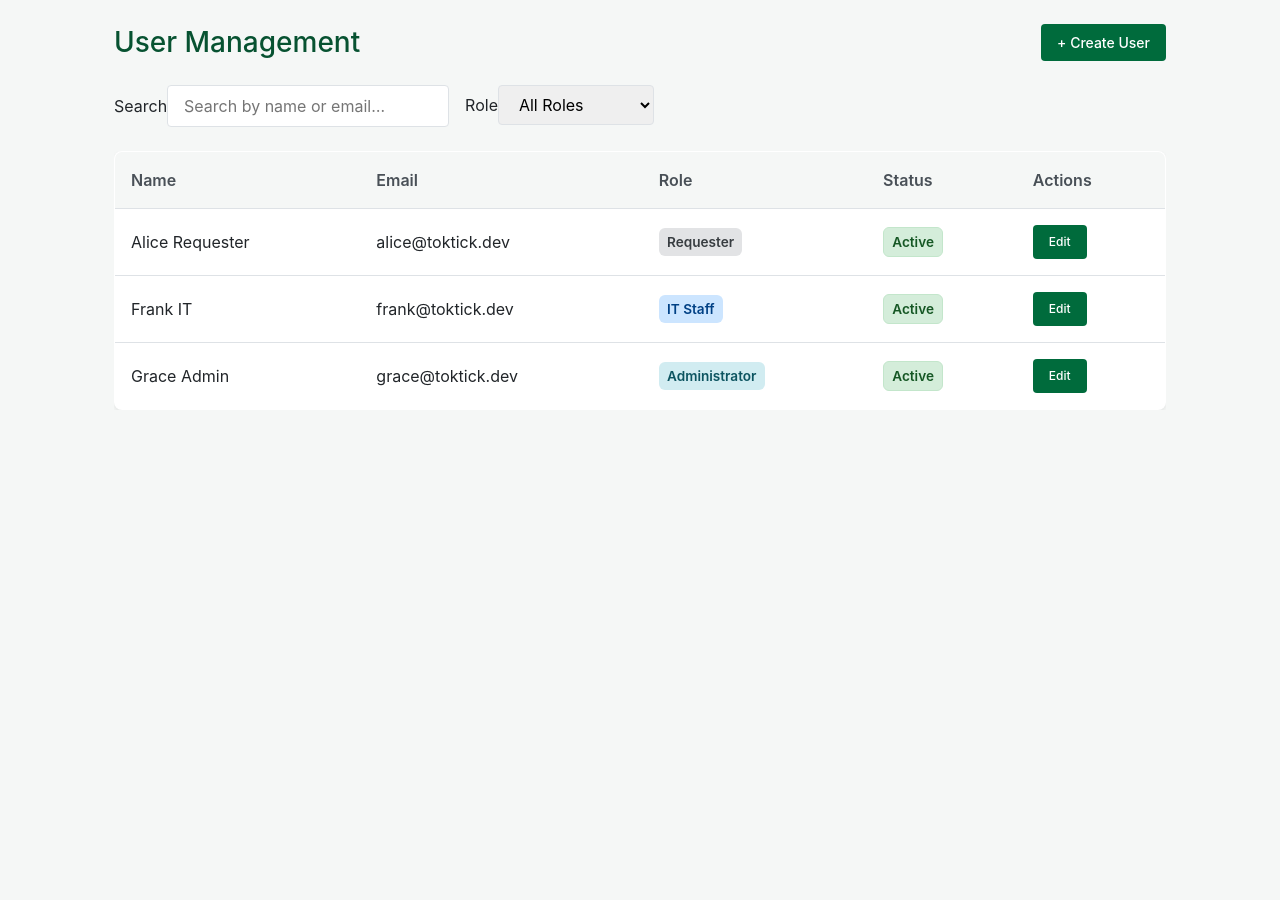
Test: UserManagementPage › opens Edit modal pre-populated with user data
The width and height of the screenshot is (1280, 900).
Click the button with test id "edit-user-btn-u1": (1060, 242) [1033,225,1087,259]
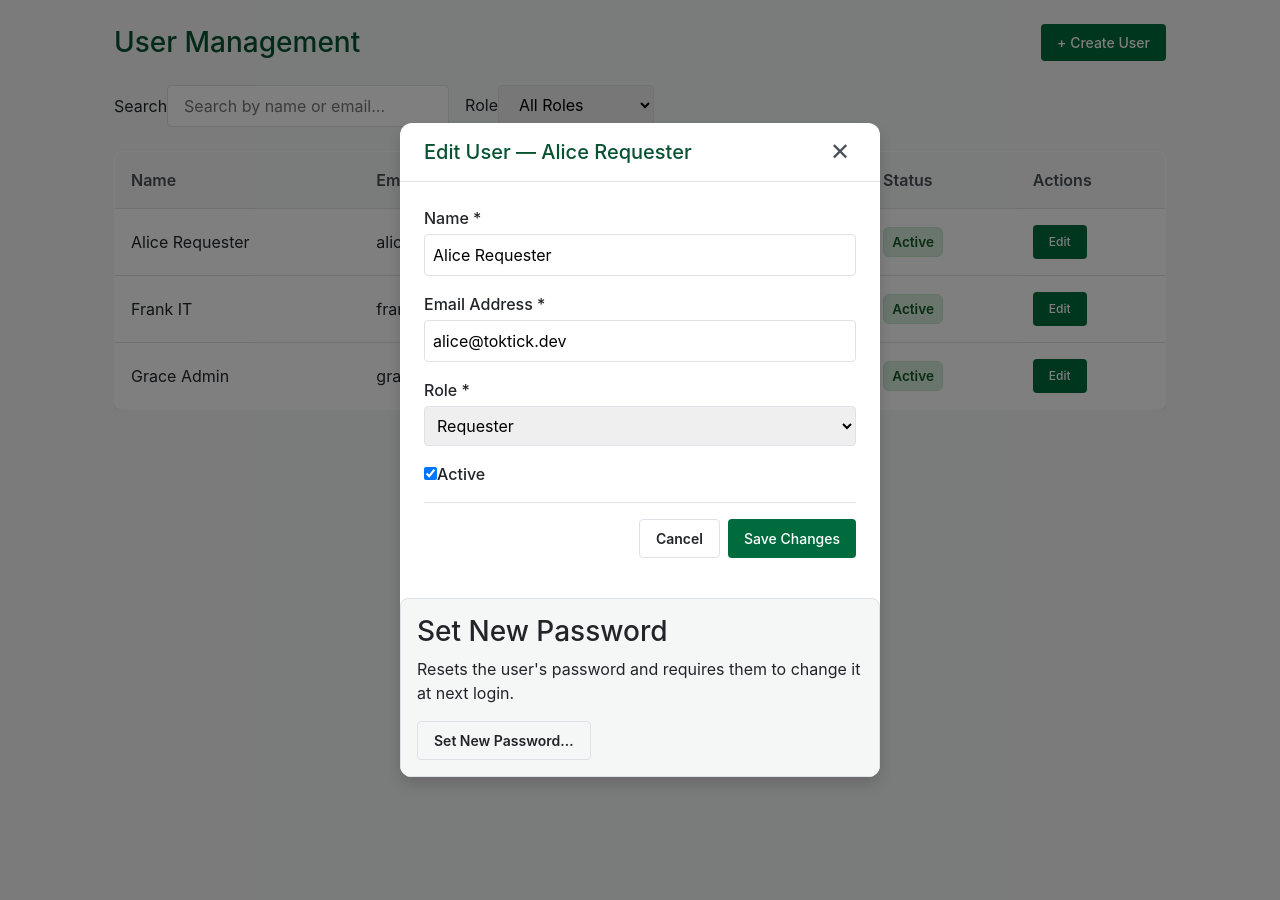
Now the dialog is shown
Now the field showing "Alice Requester" is shown, box [424,234,856,276]
Now the field showing "alice@toktick.dev" is shown, box [424,320,856,362]
